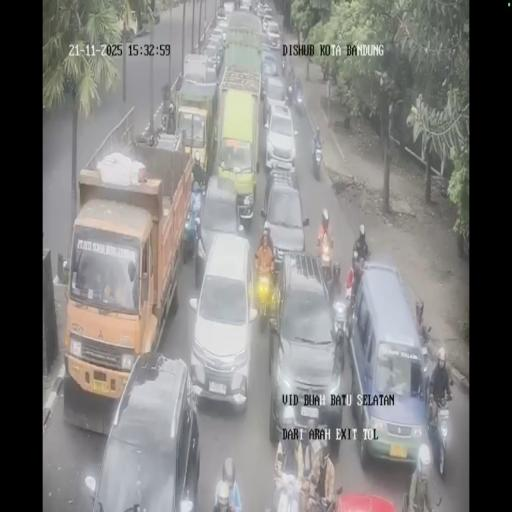car: (89, 352, 199, 509), (348, 263, 430, 466), (266, 254, 342, 444), (196, 172, 244, 282), (262, 176, 304, 264), (263, 100, 297, 176), (260, 48, 280, 94), (202, 42, 224, 80), (267, 28, 281, 48), (262, 14, 275, 33), (216, 4, 228, 21), (253, 0, 264, 16), (240, 0, 252, 12), (262, 3, 272, 16)
motorcycle: (425, 382, 451, 478), (329, 296, 350, 370), (256, 265, 276, 331), (182, 196, 199, 266), (318, 233, 335, 287), (292, 79, 305, 114), (311, 139, 322, 180), (286, 67, 295, 99), (281, 51, 287, 75)
truck: (172, 71, 217, 179), (222, 7, 264, 82), (117, 9, 137, 39)
